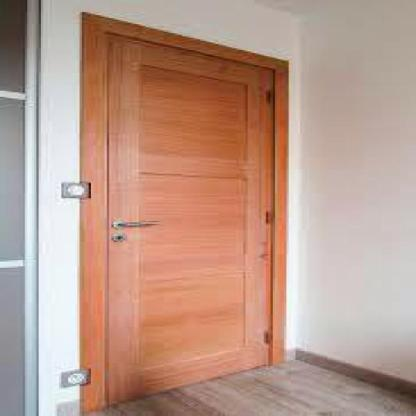door: (73, 5, 300, 414)
